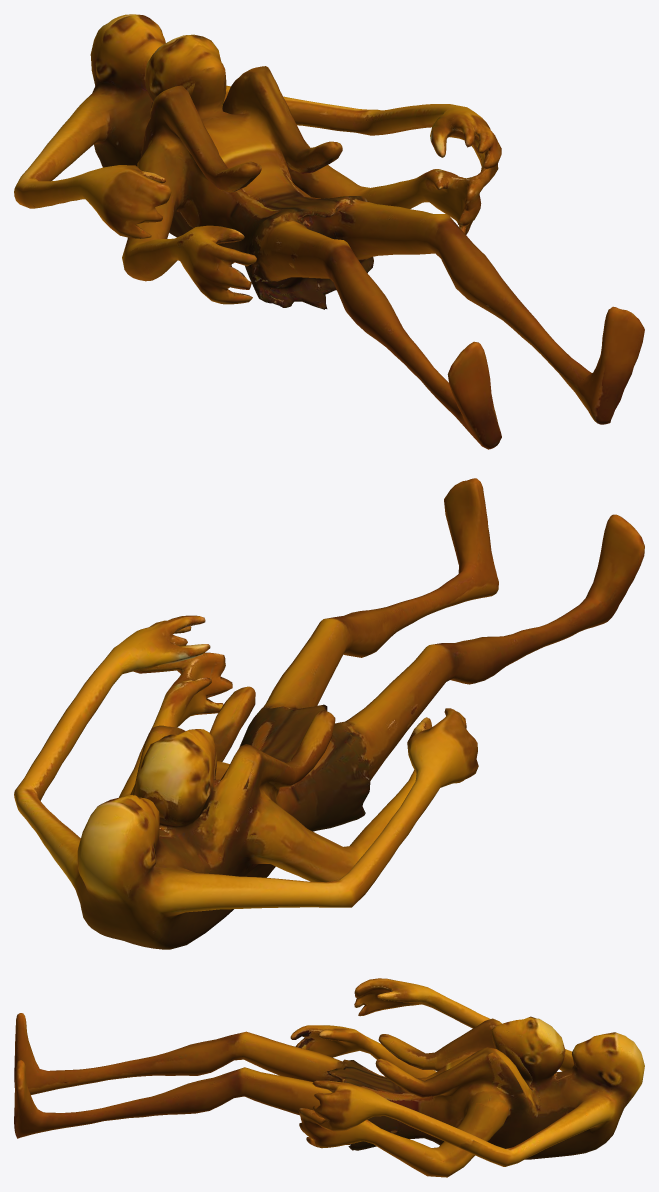
The model's file is Ashinaga_Tenaga2.glb.
The picture shows the model from 3 angles, top to bottom: view 1: azimuth 30°, elevation 25°; view 2: azimuth 150°, elevation 25°; view 3: azimuth 270°, elevation 25°; orthographic projection. The views are drawn at different scales.
Parts seen in each view (by area): view 1: Retopo_ashinaga_tenaga2.002; view 2: Retopo_ashinaga_tenaga2.002; view 3: Retopo_ashinaga_tenaga2.002.
Boxes of the visible parts, x1,y1,x2,y2 form: Retopo_ashinaga_tenaga2.002: (14, 14, 644, 449); Retopo_ashinaga_tenaga2.002: (14, 478, 644, 949); Retopo_ashinaga_tenaga2.002: (14, 978, 644, 1177).
Size of the model in its own units: 0.9225 by 0.4568 by 1.95.
Materials: 1 (1 with a texture image).
